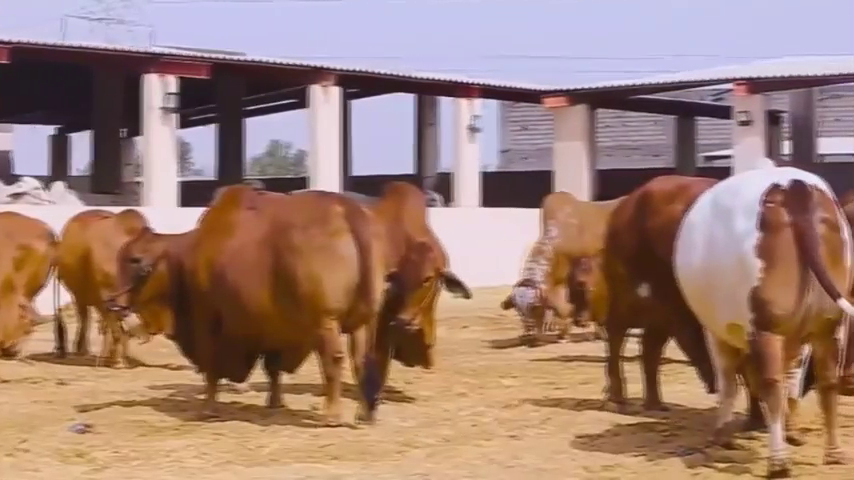bo: (112, 178, 386, 437), (669, 139, 844, 475), (587, 161, 718, 421), (313, 171, 475, 363), (497, 184, 609, 349), (56, 192, 145, 359), (1, 203, 60, 364), (559, 251, 614, 344)
